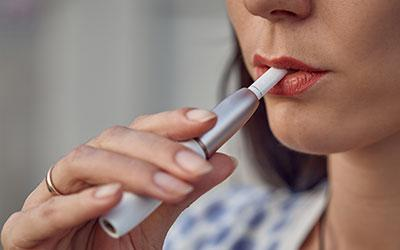iqos: (99, 66, 289, 238)
